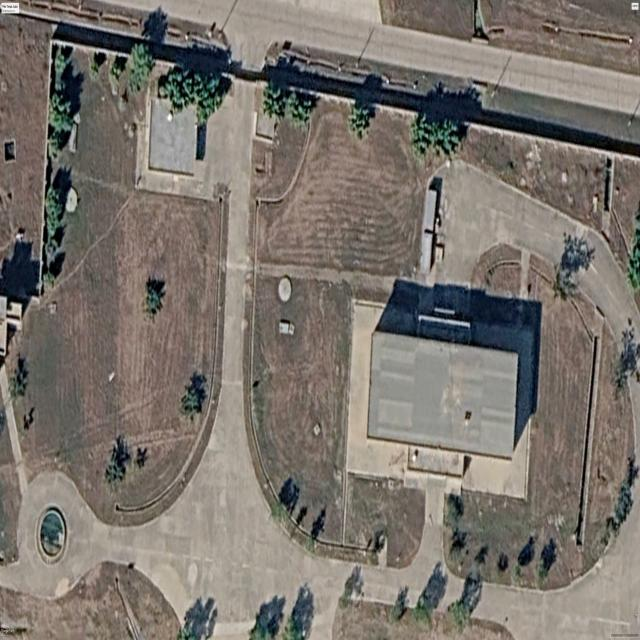Home: (367, 331, 518, 479)
